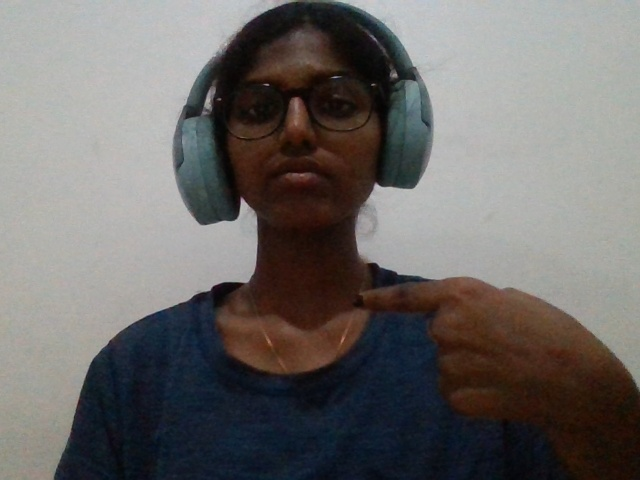Me: (328, 241, 640, 451)
